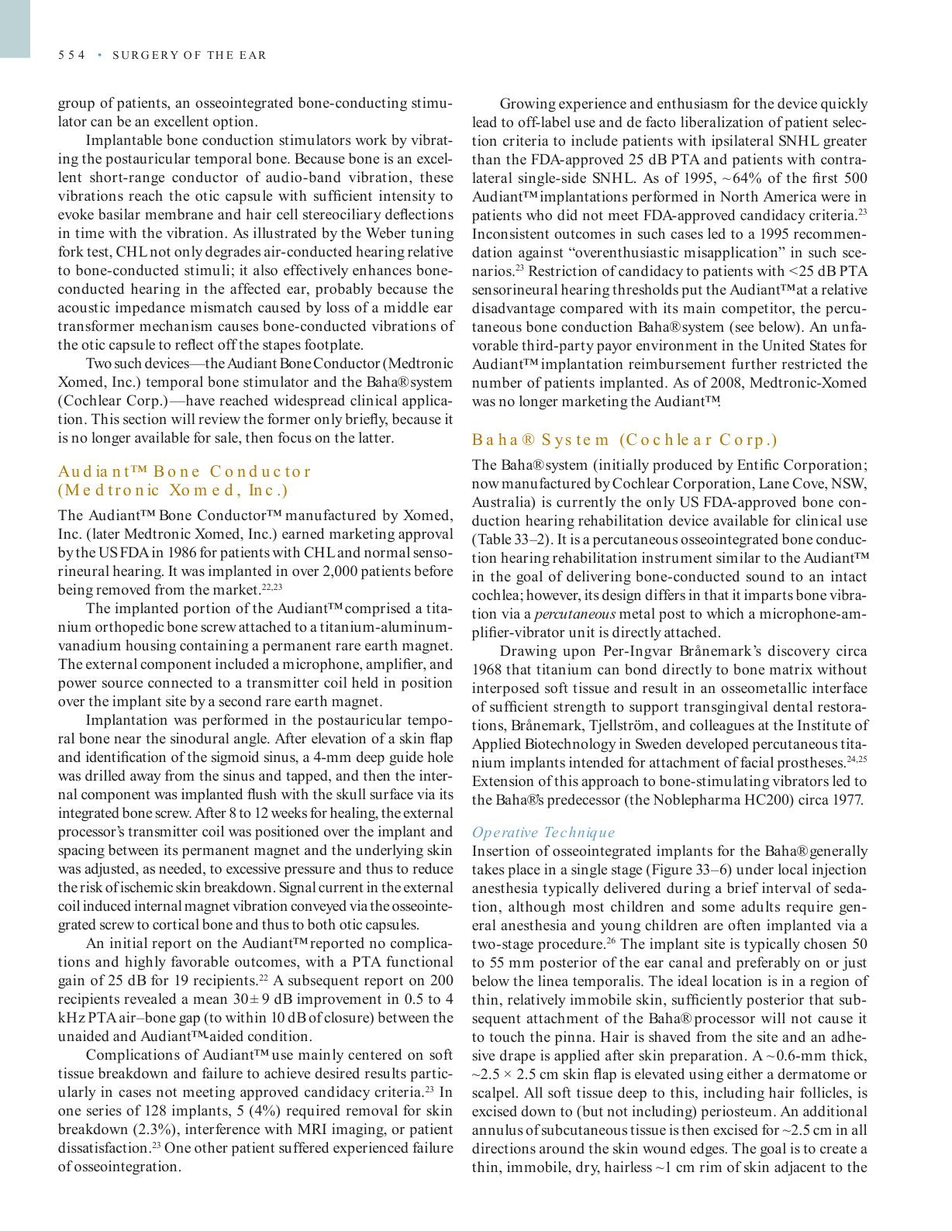header: (112, 49, 266, 61)
section-heading: (55, 463, 312, 500), (470, 429, 779, 451)
sub-section-heading: (471, 824, 617, 843)
text: (52, 505, 455, 1178), (469, 455, 870, 812), (54, 94, 455, 449), (470, 843, 867, 1177), (469, 94, 868, 412)
